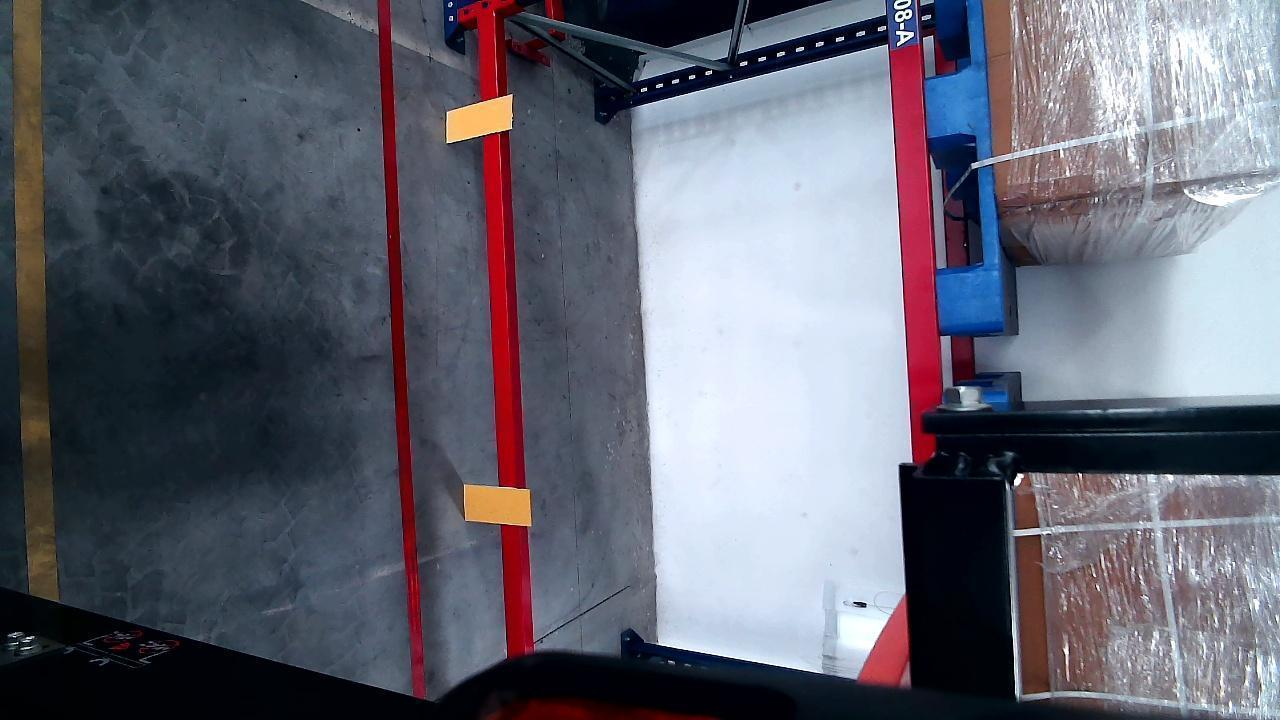red_line: (380, 6, 423, 696)
yellow_line: (14, 0, 56, 611)
